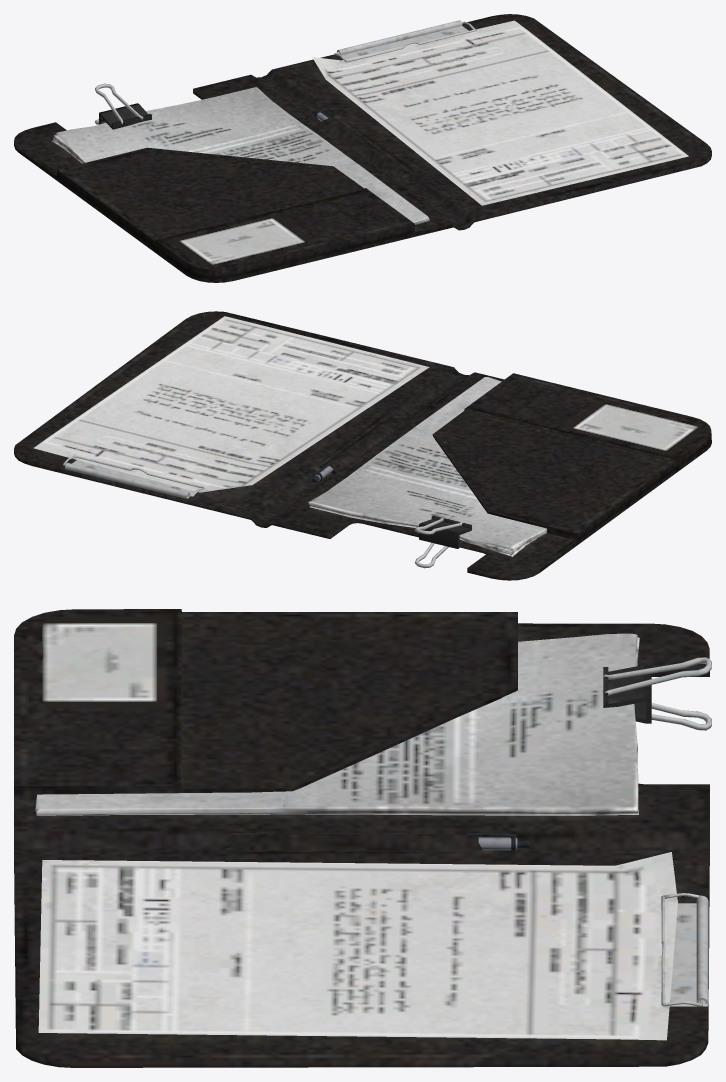
Rendered from 089_binder01a.fbx.
The picture shows the model from 3 angles, top to bottom: view 1: azimuth 30°, elevation 25°; view 2: azimuth 150°, elevation 25°; view 3: azimuth 270°, elevation 25°; orthographic projection. The views are drawn at different scales.
Visible parts, largest first — view 1: LOD_1_Group_1_Sub_1__sm36_089_Binder01A_A_Mat__Env_Default, LOD_1_Group_3_Sub_1__sm36_089_Binder01A_A_Mat__Env_Default, LOD_1_Group_0_Sub_1__sm36_089_Binder01A_A_Mat__Env_Default, LOD_1_Group_2_Sub_1__sm36_089_Binder01A_A_Mat__Env_Default; view 2: LOD_1_Group_1_Sub_1__sm36_089_Binder01A_A_Mat__Env_Default, LOD_1_Group_3_Sub_1__sm36_089_Binder01A_A_Mat__Env_Default, LOD_1_Group_0_Sub_1__sm36_089_Binder01A_A_Mat__Env_Default, LOD_1_Group_2_Sub_1__sm36_089_Binder01A_A_Mat__Env_Default; view 3: LOD_1_Group_3_Sub_1__sm36_089_Binder01A_A_Mat__Env_Default, LOD_1_Group_1_Sub_1__sm36_089_Binder01A_A_Mat__Env_Default, LOD_1_Group_0_Sub_1__sm36_089_Binder01A_A_Mat__Env_Default, LOD_1_Group_2_Sub_1__sm36_089_Binder01A_A_Mat__Env_Default.
Boxes of the visible parts, left/top/right/bottom form: LOD_1_Group_1_Sub_1__sm36_089_Binder01A_A_Mat__Env_Default: left=14, top=14, right=711, bottom=282; LOD_1_Group_3_Sub_1__sm36_089_Binder01A_A_Mat__Env_Default: left=52, top=20, right=688, bottom=224; LOD_1_Group_0_Sub_1__sm36_089_Binder01A_A_Mat__Env_Default: left=99, top=20, right=468, bottom=129; LOD_1_Group_2_Sub_1__sm36_089_Binder01A_A_Mat__Env_Default: left=95, top=21, right=476, bottom=124; LOD_1_Group_1_Sub_1__sm36_089_Binder01A_A_Mat__Env_Default: left=14, top=311, right=711, bottom=580; LOD_1_Group_3_Sub_1__sm36_089_Binder01A_A_Mat__Env_Default: left=34, top=316, right=546, bottom=556; LOD_1_Group_0_Sub_1__sm36_089_Binder01A_A_Mat__Env_Default: left=65, top=460, right=471, bottom=548; LOD_1_Group_2_Sub_1__sm36_089_Binder01A_A_Mat__Env_Default: left=63, top=455, right=462, bottom=568; LOD_1_Group_3_Sub_1__sm36_089_Binder01A_A_Mat__Env_Default: left=35, top=633, right=677, bottom=1040; LOD_1_Group_1_Sub_1__sm36_089_Binder01A_A_Mat__Env_Default: left=14, top=609, right=709, bottom=1067; LOD_1_Group_0_Sub_1__sm36_089_Binder01A_A_Mat__Env_Default: left=603, top=664, right=708, bottom=1006; LOD_1_Group_2_Sub_1__sm36_089_Binder01A_A_Mat__Env_Default: left=603, top=657, right=711, bottom=1006.
Bounding box in the file's own units: 0.6237 × 0.0423 × 0.4213.
